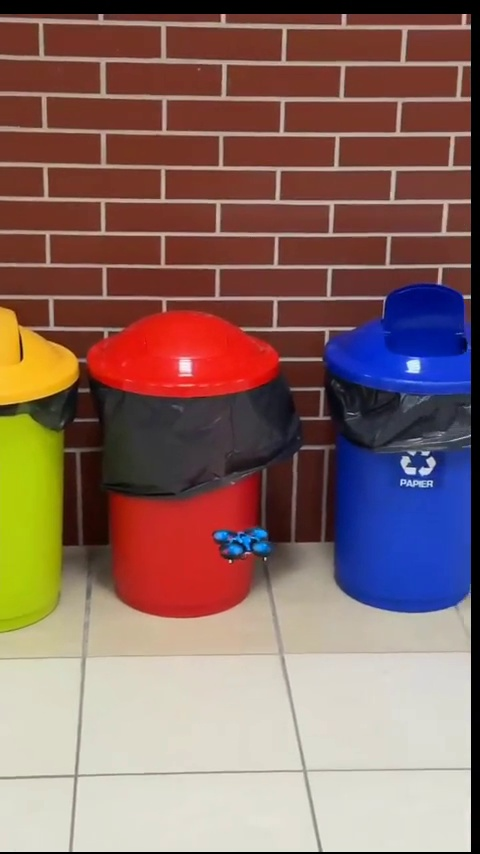drone: (210, 526, 275, 561)
